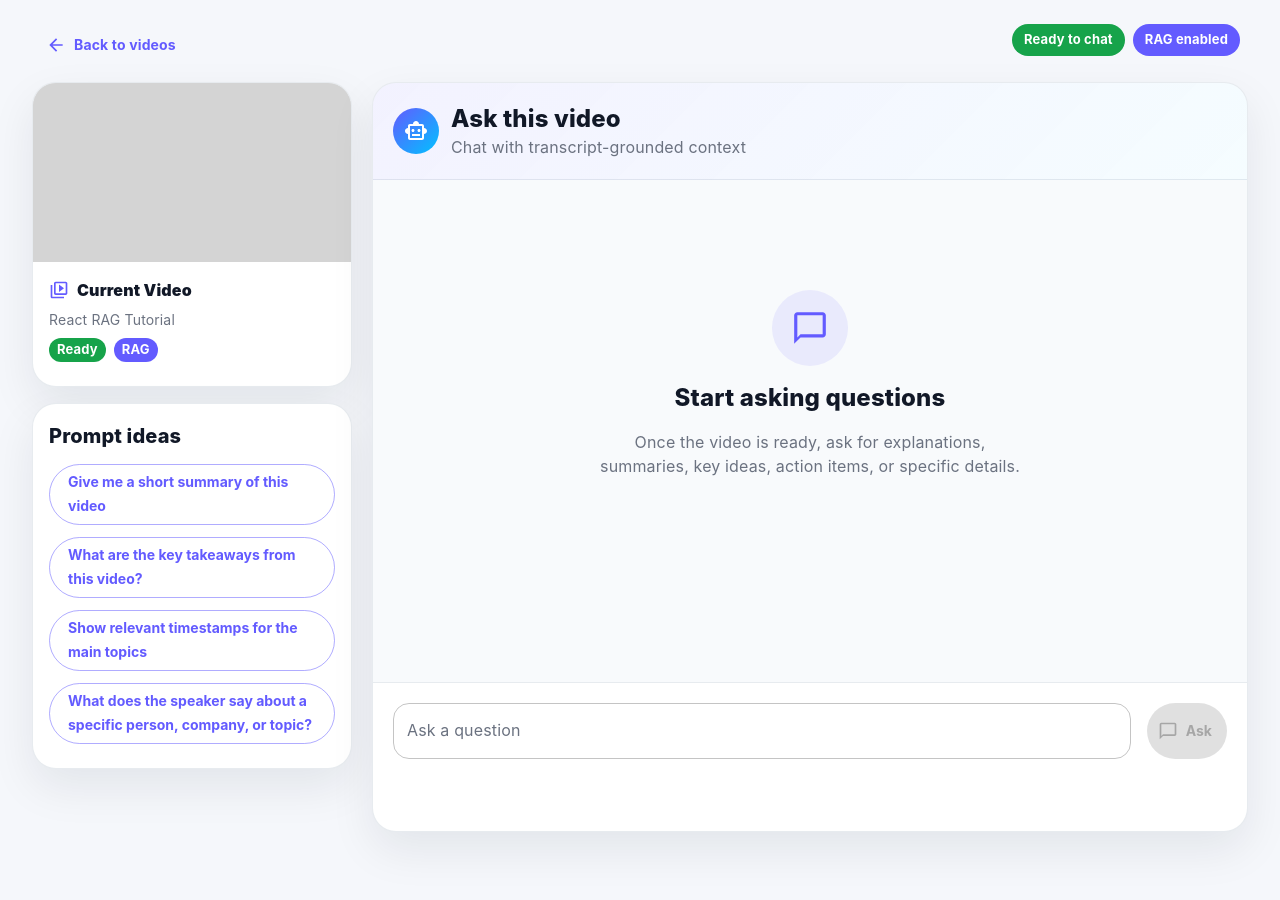
Test case: VideoChatPage › shows API error when asking fails
Expected: the heading "Start asking questions" is shown, [675,382,945,414]
Type "Explain this" into the field labelled "Ask a question" at (762, 731), box [393,703,1130,759]
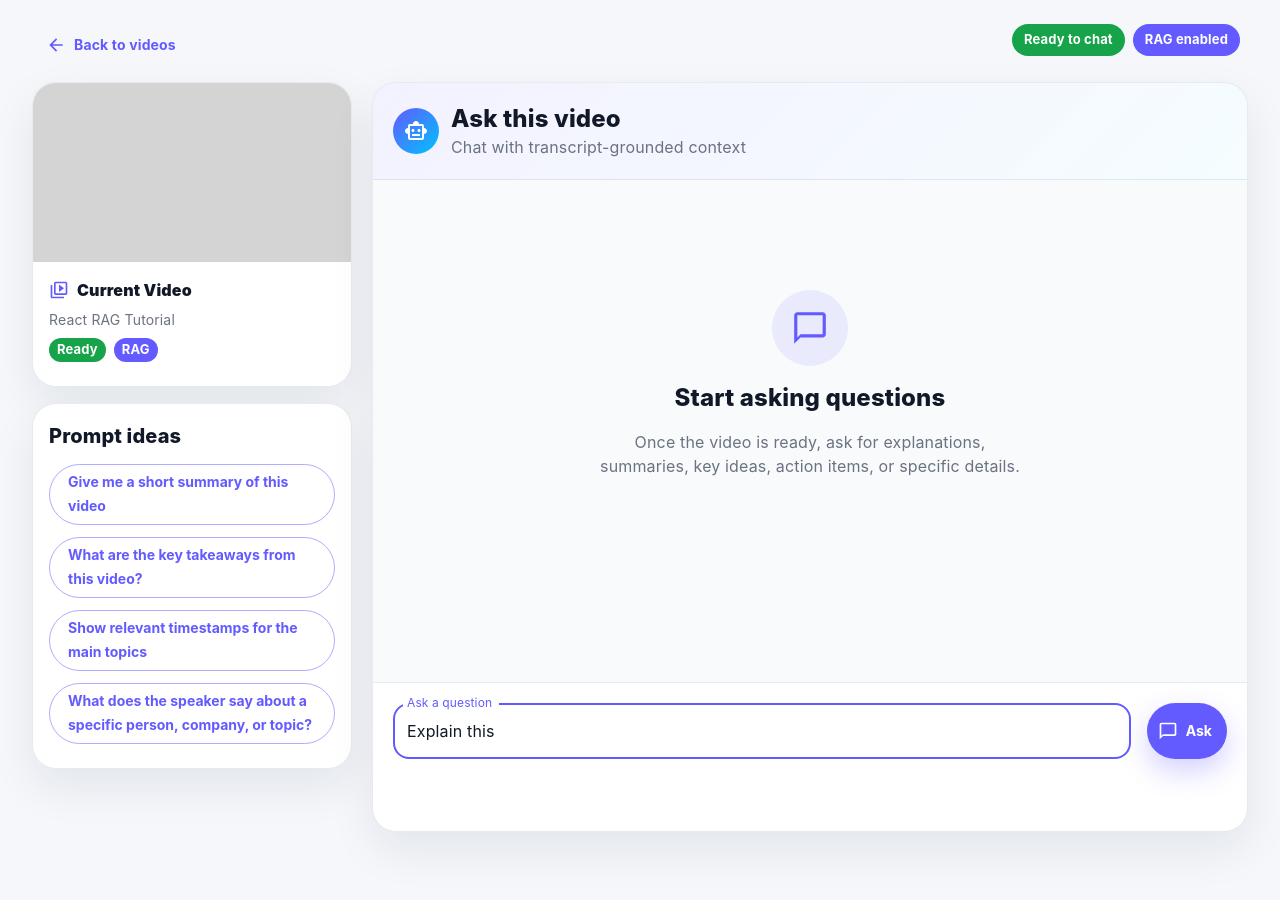
Click the button "Ask" at (1187, 731), box [1146,703,1227,759]
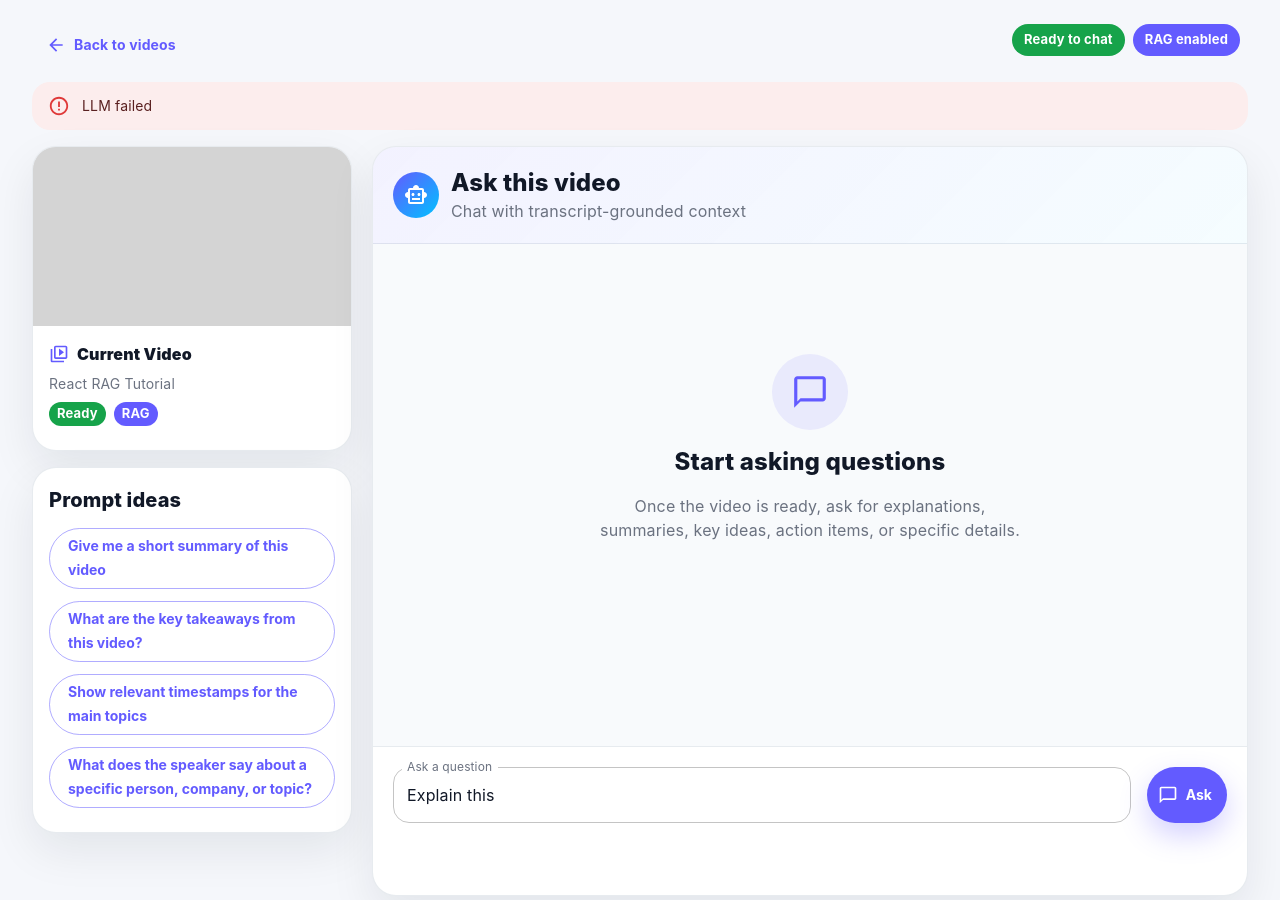
Expected: the text "LLM failed" is shown, [82,97,152,114]
